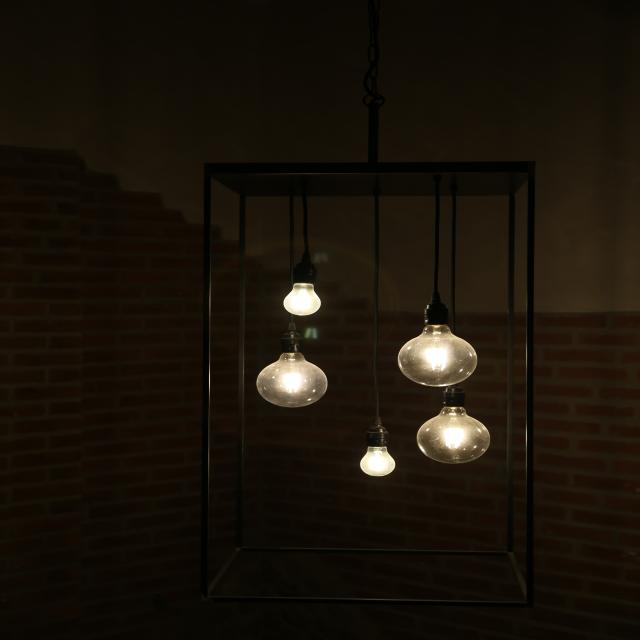Glass: (393, 324, 490, 386), (250, 348, 337, 412), (412, 406, 496, 462), (275, 283, 333, 318), (358, 444, 402, 478)
